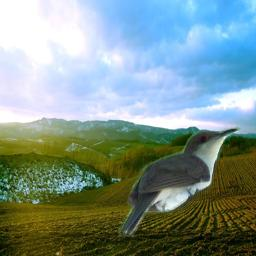Cuckoo: (118, 127, 241, 238)
